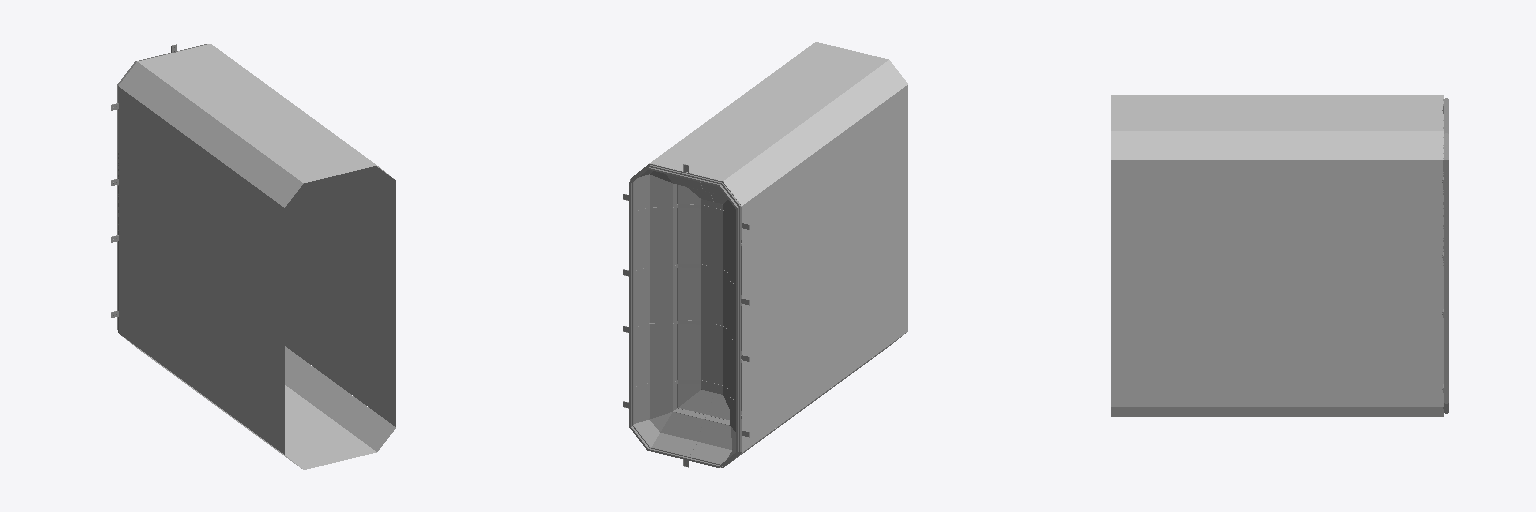
The model's file is aucman_skylight_03.obj.
3 renders of one model, left to right at view 1: azimuth 30°, elevation 25°; view 2: azimuth 150°, elevation 25°; view 3: azimuth 270°, elevation 25°, orthographic.
Visible parts, largest first — view 1: c_playerblocker, g_g; view 2: c_playerblocker, g_g, g_glass_08, g_glass_04, g_glass_06_crk, g_glass_02_crk, g_glass_10, g_glass_01_crk, g_glass_05_crk, g_glass_07, g_glass_03, g_glass_09; view 3: c_playerblocker, g_g.
Boxes of the visible parts, x1,y1,x2,y2 form: c_playerblocker: [118, 44, 395, 469]; g_g: [111, 44, 206, 332]; c_playerblocker: [649, 42, 907, 467]; g_g: [623, 164, 749, 467]; g_glass_08: [634, 208, 709, 270]; g_glass_04: [634, 324, 709, 386]; g_glass_06_crk: [634, 267, 709, 327]; g_glass_02_crk: [634, 384, 709, 453]; g_glass_10: [634, 165, 709, 210]; g_glass_01_crk: [689, 393, 741, 466]; g_glass_05_crk: [714, 272, 735, 340]; g_glass_07: [714, 215, 735, 283]; g_glass_03: [714, 329, 735, 400]; g_glass_09: [688, 174, 741, 239]; c_playerblocker: [1111, 95, 1443, 416]; g_g: [1442, 98, 1448, 413].
Size of the model in its own units: 700 by 1600 by 1625.